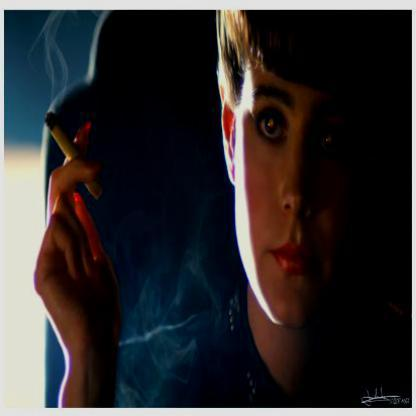cigarette: (46, 108, 104, 206)
person: (211, 5, 394, 388)
